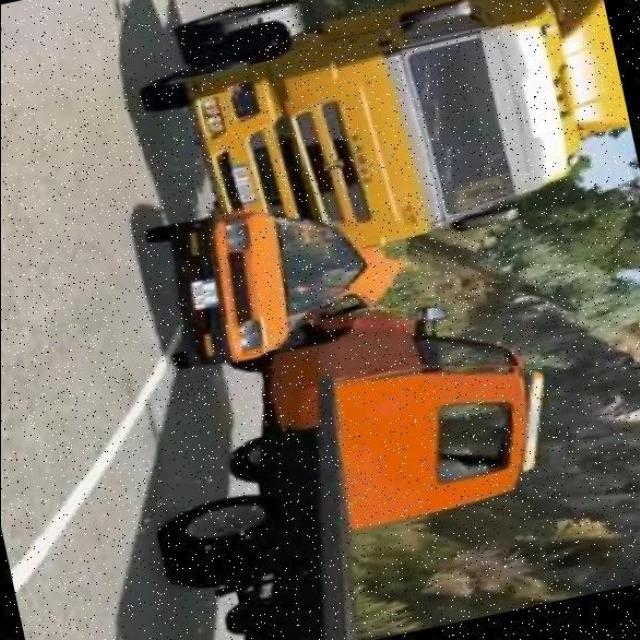accident: (161, 115, 523, 487)
